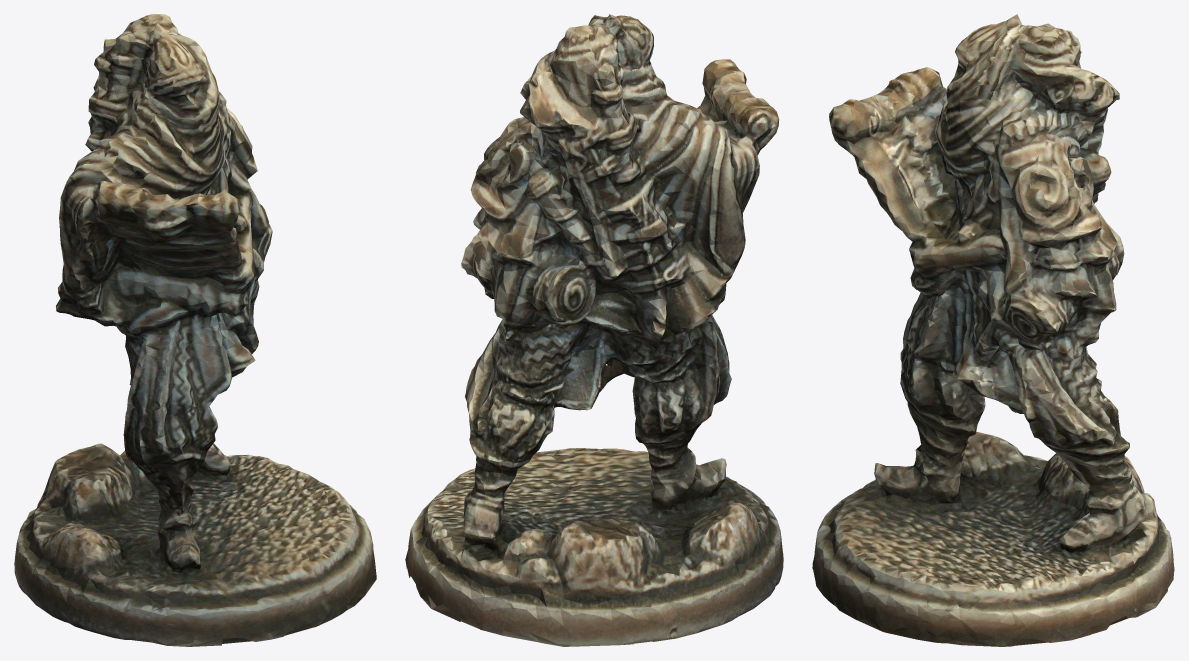
File: naazer.glb
3 renders of one model, left to right at view 1: azimuth 30°, elevation 25°; view 2: azimuth 150°, elevation 25°; view 3: azimuth 270°, elevation 25°, orthographic. The views are drawn at different scales.
Parts seen in each view (by area): view 1: geometry_0; view 2: geometry_0; view 3: geometry_0.
Part boxes in pixels (bbox=[...]): geometry_0: bbox=[14, 14, 376, 646]; geometry_0: bbox=[405, 14, 783, 646]; geometry_0: bbox=[812, 14, 1174, 646].
Bounding box in the file's own units: 0.0153 × 0.0254 × 0.0153.
1 material, 1 textured.
